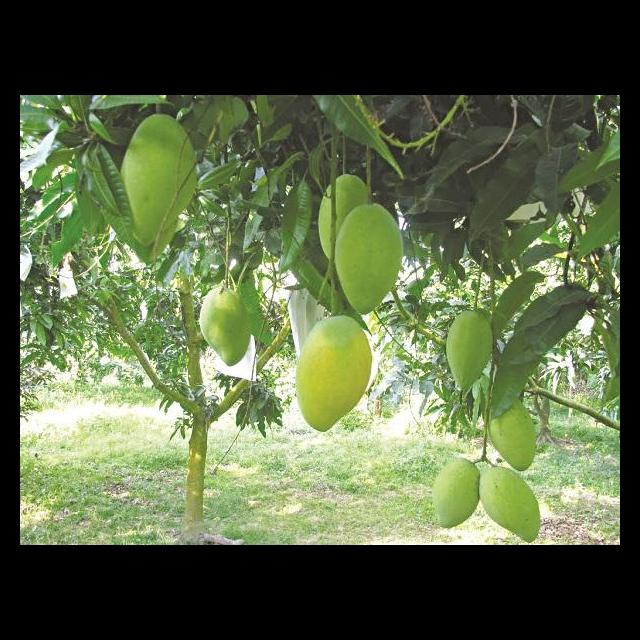xoai: (122, 113, 197, 243), (294, 313, 373, 433), (334, 203, 402, 314), (479, 466, 541, 541), (199, 285, 252, 366), (445, 306, 493, 389), (431, 454, 480, 528), (487, 398, 536, 470)
